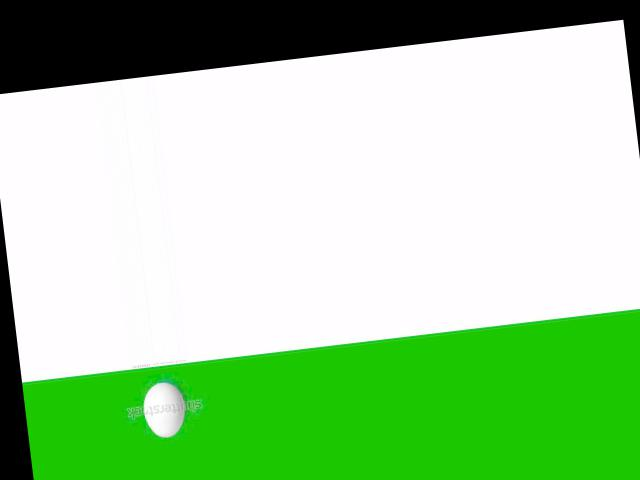egg: (140, 380, 187, 439)
